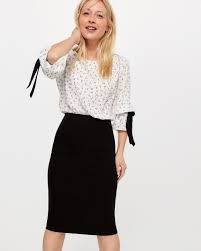F_tailored skirt: (41, 106, 121, 239)
